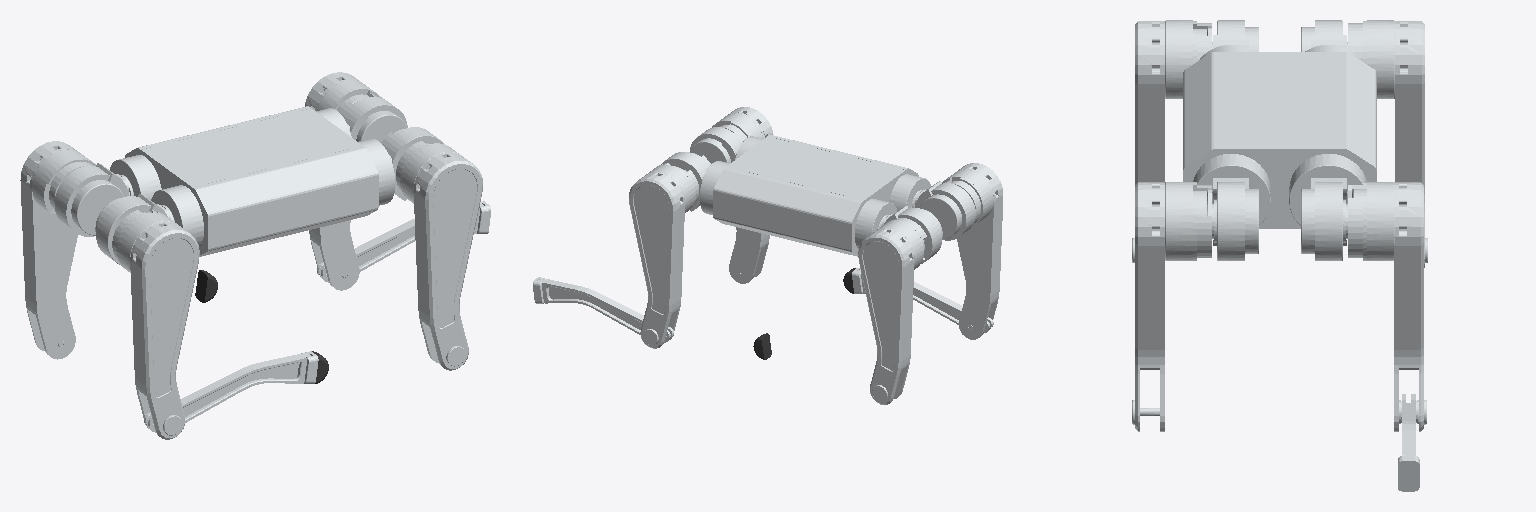
The robot description file, URDF, robot "sdog2":
<?xml version="1.0" encoding="utf-8"?>
<!-- This URDF was automatically created by SolidWorks to URDF Exporter! Originally created by Stephen Brawner (brawner@gmail.com) 
     Commit Version: 1.5.1-0-g916b5db  Build Version: 1.5.7152.31018
     For more information, please see http://wiki.ros.org/sw_urdf_exporter -->
<robot
  name="sdog2">
  <link
    name="base_link">
    <inertial>
      <origin
        xyz="0.014478 0.0001355 -0.0027127"
        rpy="0 0 0" />
      <mass
        value="4.2719" />
      <inertia
        ixx="0.01292039"
        ixy="-8.164E-05"
        ixz="-0.00033706"
        iyy="0.03772913"
        iyz="-1.848E-05"
        izz="0.04632371" />
    </inertial>
    <visual>
      <origin
        xyz="0 0 0"
        rpy="0 0 0" />
      <geometry>
        <mesh
          filename="../meshes/base_link.STL" />
      </geometry>
      <material
        name="">
        <color
          rgba="0.89804 0.91765 0.92941 1" />
      </material>
    </visual>
    <collision>
      <origin
        xyz="0 0 0"
        rpy="0 0 0" />
      <geometry>
        <mesh
          filename="../meshes/base_link.STL" />
      </geometry>
    </collision>
  </link>
  <link
    name="RL_hip">
    <inertial>
      <origin
        xyz="-0.039981 -0.0022222 -1.8726E-09"
        rpy="0 0 0" />
      <mass
        value="0.45019" />
      <inertia
        ixx="0.00024248"
        ixy="4.402E-05"
        ixz="0"
        iyy="0.0011037"
        iyz="-5.0256E-12"
        izz="0.00099715" />
    </inertial>
    <visual>
      <origin
        xyz="0 0 0"
        rpy="0 0 0" />
      <geometry>
        <mesh
          filename="../meshes/RL_hip.STL" />
      </geometry>
      <material
        name="">
        <color
          rgba="0.89804 0.91765 0.92941 1" />
      </material>
    </visual>
    <collision>
      <origin
        xyz="0 0 0"
        rpy="0 0 0" />
      <geometry>
        <mesh
          filename="../meshes/RL_hip.STL" />
      </geometry>
    </collision>
  </link>
  <joint
    name="RL_hip_joint"
    type="revolute">
    <origin
      xyz="-0.147 0.0485 0"
      rpy="0 0 0" />
    <parent
      link="base_link" />
    <child
      link="RL_hip" />
    <axis
      xyz="1 0 0" />
    <limit
      lower="-1.4"
      upper="1.4"
      effort="17"
      velocity="42.935" />
  </joint>
  <link
    name="RL_thigh">
    <inertial>
      <origin
        xyz="-0.0024221 0.045951 -0.038919"
        rpy="0 0 0" />
      <mass
        value="0.95949" />
      <inertia
        ixx="0.0081819"
        ixy="-0.00015667"
        ixz="0.00028798"
        iyy="0.0060991"
        iyz="-0.0023776"
        izz="0.0029149" />
    </inertial>
    <visual>
      <origin
        xyz="0 0 0"
        rpy="0 0 0" />
      <geometry>
        <mesh
          filename="../meshes/RL_thigh.STL" />
      </geometry>
      <material
        name="">
        <color
          rgba="0.89804 0.91765 0.92941 1" />
      </material>
    </visual>
    <collision>
      <origin
        xyz="0 0 0"
        rpy="0 0 0" />
      <geometry>
        <mesh
          filename="../meshes/RL_thigh.STL" />
      </geometry>
    </collision>
  </link>
  <joint
    name="RL_thigh_joint"
    type="revolute">
    <origin
      xyz="-0.044 0.018 0"
      rpy="0 0 0" />
    <parent
      link="RL_hip" />
    <child
      link="RL_thigh" />
    <axis
      xyz="0 1 0" />
    <limit
      lower="-1.5"
      upper="2.8"
      effort="17"
      velocity="42.935" />
  </joint>
  <link
    name="RL_calf">
    <inertial>
      <origin
        xyz="0.0067777 1.9855E-06 -0.10037"
        rpy="0 0 0" />
      <mass
        value="0.14071" />
      <inertia
        ixx="0.0021875"
        ixy="0"
        ixz="-0.00010679"
        iyy="0.0022056"
        iyz="-5E-08"
        izz="2.369E-05" />
    </inertial>
    <visual>
      <origin
        xyz="0 0 0"
        rpy="0 0 0" />
      <geometry>
        <mesh
          filename="../meshes/RL_calf.STL" />
      </geometry>
      <material
        name="">
        <color
          rgba="0.89804 0.91765 0.92941 1" />
      </material>
    </visual>
    <collision>
      <origin
        xyz="0 0 0"
        rpy="0 0 0" />
      <geometry>
        <mesh
          filename="../meshes/RL_calf.STL" />
      </geometry>
    </collision>
  </link>
  <joint
    name="RL_calf_joint"
    type="revolute">
    <origin
      xyz="0 0.063 -0.21"
      rpy="0 0 0" />
    <parent
      link="RL_thigh" />
    <child
      link="RL_calf" />
    <axis
      xyz="0 1 0" />
    <limit
      lower="-2.627"
      upper="-0.73"
      effort="17"
      velocity="42.935" />
  </joint>
  <link
    name="RL_foot">
    <inertial>
      <origin
        xyz="-0.0018355 -2.7756E-17 -0.0072422"
        rpy="0 0 0" />
      <mass
        value="0.013247" />
      <inertia
        ixx="1.52E-06"
        ixy="0"
        ixz="0"
        iyy="2.06E-06"
        iyz="0"
        izz="1.52E-06" />
    </inertial>
    <visual>
      <origin
        xyz="0 0 0"
        rpy="0 0 0" />
      <geometry>
        <mesh
          filename="../meshes/RL_foot.STL" />
      </geometry>
      <material
        name="">
        <color
          rgba="0.29804 0.29804 0.29804 1" />
      </material>
    </visual>
    <collision>
      <origin
        xyz="0 0 0"
        rpy="0 0 0" />
      <geometry>
        <mesh
          filename="../meshes/RL_foot.STL" />
      </geometry>
    </collision>
  </link>
  <joint
    name="RL_foot_joint"
    type="fixed"
    dont_collapse="true">
    <origin
      xyz="0 0 -0.199007934855877"
      rpy="0 0 0" />
    <parent
      link="RL_calf" />
    <child
      link="RL_foot" />
    <axis
      xyz="0 0 0" />
  </joint>
  <link
    name="RR_hip">
    <inertial>
      <origin
        xyz="-0.039981 0.0022222 1.8726E-09"
        rpy="0 0 0" />
      <mass
        value="0.45019" />
      <inertia
        ixx="0.00024248"
        ixy="-4.402E-05"
        ixz="0"
        iyy="0.0011037"
        iyz="0"
        izz="0.00099715" />
    </inertial>
    <visual>
      <origin
        xyz="0 0 0"
        rpy="0 0 0" />
      <geometry>
        <mesh
          filename="../meshes/RR_hip.STL" />
      </geometry>
      <material
        name="">
        <color
          rgba="0.89804 0.91765 0.92941 1" />
      </material>
    </visual>
    <collision>
      <origin
        xyz="0 0 0"
        rpy="0 0 0" />
      <geometry>
        <mesh
          filename="../meshes/RR_hip.STL" />
      </geometry>
    </collision>
  </link>
  <joint
    name="RR_hip_joint"
    type="revolute">
    <origin
      xyz="-0.147 -0.0485 0"
      rpy="0 0 0" />
    <parent
      link="base_link" />
    <child
      link="RR_hip" />
    <axis
      xyz="1 0 0" />
    <limit
      lower="-1.4"
      upper="1.4"
      effort="17"
      velocity="42.935" />
  </joint>
  <link
    name="RR_thigh">
    <inertial>
      <origin
        xyz="-0.0026191 -0.046317 -0.039171"
        rpy="0 0 0" />
      <mass
        value="0.97456" />
      <inertia
        ixx="0.0083492"
        ixy="0.00016405"
        ixz="0.00029587"
        iyy="0.0062077"
        iyz="0.0024412"
        izz="0.0030069" />
    </inertial>
    <visual>
      <origin
        xyz="0 0 0"
        rpy="0 0 0" />
      <geometry>
        <mesh
          filename="../meshes/RR_thigh.STL" />
      </geometry>
      <material
        name="">
        <color
          rgba="0.89804 0.91765 0.92941 1" />
      </material>
    </visual>
    <collision>
      <origin
        xyz="0 0 0"
        rpy="0 0 0" />
      <geometry>
        <mesh
          filename="../meshes/RR_thigh.STL" />
      </geometry>
    </collision>
  </link>
  <joint
    name="RR_thigh_joint"
    type="revolute">
    <origin
      xyz="-0.044 -0.0180000000000001 0"
      rpy="0 0 0" />
    <parent
      link="RR_hip" />
    <child
      link="RR_thigh" />
    <axis
      xyz="0 1 0" />
    <limit
      lower="-1.5"
      upper="2.8"
      effort="17"
      velocity="42.935" />
  </joint>
  <link
    name="RR_calf">
    <inertial>
      <origin
        xyz="0.0067777 1.9855E-06 -0.10037"
        rpy="0 0 0" />
      <mass
        value="0.14071" />
      <inertia
        ixx="0.0021875"
        ixy="0"
        ixz="-0.00010679"
        iyy="0.0022056"
        iyz="-5E-08"
        izz="0" />
    </inertial>
    <visual>
      <origin
        xyz="0 0 0"
        rpy="0 0 0" />
      <geometry>
        <mesh
          filename="../meshes/RR_calf.STL" />
      </geometry>
      <material
        name="">
        <color
          rgba="0.89804 0.91765 0.92941 1" />
      </material>
    </visual>
    <collision>
      <origin
        xyz="0 0 0"
        rpy="0 0 0" />
      <geometry>
        <mesh
          filename="../meshes/RR_calf.STL" />
      </geometry>
    </collision>
  </link>
  <joint
    name="RR_calf_joint"
    type="revolute">
    <origin
      xyz="0 -0.0630000000000226 -0.210000000000001"
      rpy="0 0 0" />
    <parent
      link="RR_thigh" />
    <child
      link="RR_calf" />
    <axis
      xyz="0 1 0" />
    <limit
      lower="-2.627"
      upper="-0.73"
      effort="17"
      velocity="42.935" />
  </joint>
  <link
    name="RR_foot">
    <inertial>
      <origin
        xyz="-0.0018355 -2.7756E-17 -0.0072422"
        rpy="0 0 0" />
      <mass
        value="0.013247" />
      <inertia
        ixx="1.52E-06"
        ixy="0"
        ixz="0"
        iyy="2.06E-06"
        iyz="0"
        izz="1.52E-06" />
    </inertial>
    <visual>
      <origin
        xyz="0 0 0"
        rpy="0 0 0" />
      <geometry>
        <mesh
          filename="../meshes/RR_foot.STL" />
      </geometry>
      <material
        name="">
        <color
          rgba="0.29804 0.29804 0.29804 1" />
      </material>
    </visual>
    <collision>
      <origin
        xyz="0 0 0"
        rpy="0 0 0" />
      <geometry>
        <mesh
          filename="../meshes/RR_foot.STL" />
      </geometry>
    </collision>
  </link>
  <joint
    name="RR_foot_joint"
    type="fixed"
    dont_collapse="true">
    <origin
      xyz="0 0 -0.199007934855878"
      rpy="0 0 0" />
    <parent
      link="RR_calf" />
    <child
      link="RR_foot" />
    <axis
      xyz="0 0 0" />
  </joint>
  <link
    name="FR_hip">
    <inertial>
      <origin
        xyz="0.039981 0.0022222 -1.8726E-09"
        rpy="0 0 0" />
      <mass
        value="0.45019" />
      <inertia
        ixx="0.00024248"
        ixy="4.402E-05"
        ixz="0"
        iyy="0.0011037"
        iyz="0"
        izz="0.00099715" />
    </inertial>
    <visual>
      <origin
        xyz="0 0 0"
        rpy="0 0 0" />
      <geometry>
        <mesh
          filename="../meshes/FR_hip.STL" />
      </geometry>
      <material
        name="">
        <color
          rgba="0.89804 0.91765 0.92941 1" />
      </material>
    </visual>
    <collision>
      <origin
        xyz="0 0 0"
        rpy="0 0 0" />
      <geometry>
        <mesh
          filename="../meshes/FR_hip.STL" />
      </geometry>
    </collision>
  </link>
  <joint
    name="FR_hip_joint"
    type="revolute">
    <origin
      xyz="0.147 -0.0485 0"
      rpy="0 0 0" />
    <parent
      link="base_link" />
    <child
      link="FR_hip" />
    <axis
      xyz="1 0 0" />
    <limit
      lower="-1.4"
      upper="1.4"
      effort="17"
      velocity="42.935" />
  </joint>
  <link
    name="FR_thigh">
    <inertial>
      <origin
        xyz="-0.0027343 -0.046317 -0.039501"
        rpy="0 0 0" />
      <mass
        value="0.97456" />
      <inertia
        ixx="0.0083518"
        ixy="0.00016523"
        ixz="0.00029267"
        iyy="0.0062077"
        iyz="0.0024446"
        izz="0.0030043" />
    </inertial>
    <visual>
      <origin
        xyz="0 0 0"
        rpy="0 0 0" />
      <geometry>
        <mesh
          filename="../meshes/FR_thigh.STL" />
      </geometry>
      <material
        name="">
        <color
          rgba="0.89804 0.91765 0.92941 1" />
      </material>
    </visual>
    <collision>
      <origin
        xyz="0 0 0"
        rpy="0 0 0" />
      <geometry>
        <mesh
          filename="../meshes/FR_thigh.STL" />
      </geometry>
    </collision>
  </link>
  <joint
    name="FR_thigh_joint"
    type="revolute">
    <origin
      xyz="0.0440000000000002 -0.0179999999999994 0"
      rpy="0 0 0" />
    <parent
      link="FR_hip" />
    <child
      link="FR_thigh" />
    <axis
      xyz="0 1 0" />
    <limit
      lower="-1.5"
      upper="2.8"
      effort="17"
      velocity="42.935" />
  </joint>
  <link
    name="FR_calf">
    <inertial>
      <origin
        xyz="0.0067777 1.9855E-06 -0.10037"
        rpy="0 0 0" />
      <mass
        value="0.14071" />
      <inertia
        ixx="0.0021875"
        ixy="0"
        ixz="-0.00010679"
        iyy="0.0022056"
        iyz="-5E-08"
        izz="2.369E-05" />
    </inertial>
    <visual>
      <origin
        xyz="0 0 0"
        rpy="0 0 0" />
      <geometry>
        <mesh
          filename="../meshes/FR_calf.STL" />
      </geometry>
      <material
        name="">
        <color
          rgba="0.89804 0.91765 0.92941 1" />
      </material>
    </visual>
    <collision>
      <origin
        xyz="0 0 0"
        rpy="0 0 0" />
      <geometry>
        <mesh
          filename="../meshes/FR_calf.STL" />
      </geometry>
    </collision>
  </link>
  <joint
    name="FR_calf_joint"
    type="revolute">
    <origin
      xyz="0 -0.0630000000000001 -0.209999999999999"
      rpy="0 0 0" />
    <parent
      link="FR_thigh" />
    <child
      link="FR_calf" />
    <axis
      xyz="0 1 0" />
    <limit
      lower="-2.627"
      upper="-0.73"
      effort="17"
      velocity="42.935" />
  </joint>
  <link
    name="FR_foot">
    <inertial>
      <origin
        xyz="-0.0018355 -2.7756E-17 -0.0072422"
        rpy="0 0 0" />
      <mass
        value="0.013247" />
      <inertia
        ixx="1.52E-06"
        ixy="0"
        ixz="0"
        iyy="2.06E-06"
        iyz="0"
        izz="1.52E-06" />
    </inertial>
    <visual>
      <origin
        xyz="0 0 0"
        rpy="0 0 0" />
      <geometry>
        <mesh
          filename="../meshes/FR_foot.STL" />
      </geometry>
      <material
        name="">
        <color
          rgba="0.29804 0.29804 0.29804 1" />
      </material>
    </visual>
    <collision>
      <origin
        xyz="0 0 0"
        rpy="0 0 0" />
      <geometry>
        <mesh
          filename="../meshes/FR_foot.STL" />
      </geometry>
    </collision>
  </link>
  <joint
    name="FR_foot_joint"
    type="fixed"
    dont_collapse="true">
    <origin
      xyz="0 0 -0.199007934855877"
      rpy="0 0 0" />
    <parent
      link="FR_calf" />
    <child
      link="FR_foot" />
    <axis
      xyz="0 0 0" />
  </joint>
  <link
    name="FL_hip">
    <inertial>
      <origin
        xyz="0.039981 -0.0022222 -1.8726E-09"
        rpy="0 0 0" />
      <mass
        value="0.45019" />
      <inertia
        ixx="0.00024248"
        ixy="-4.402E-05"
        ixz="0"
        iyy="0.0011037"
        iyz="0"
        izz="0.00099715" />
    </inertial>
    <visual>
      <origin
        xyz="0 0 0"
        rpy="0 0 0" />
      <geometry>
        <mesh
          filename="../meshes/FL_hip.STL" />
      </geometry>
      <material
        name="">
        <color
          rgba="0.89804 0.91765 0.92941 1" />
      </material>
    </visual>
    <collision>
      <origin
        xyz="0 0 0"
        rpy="0 0 0" />
      <geometry>
        <mesh
          filename="../meshes/FL_hip.STL" />
      </geometry>
    </collision>
  </link>
  <joint
    name="FL_hip_joint"
    type="revolute">
    <origin
      xyz="0.147 0.0485000000000039 0"
      rpy="0 0 0" />
    <parent
      link="base_link" />
    <child
      link="FL_hip" />
    <axis
      xyz="1 0 0" />
    <limit
      lower="-1.4"
      upper="1.4"
      effort="17"
      velocity="42.935" />
  </joint>
  <link
    name="FL_thigh">
    <inertial>
      <origin
        xyz="-0.0025853 0.045437 -0.039114"
        rpy="0 0 0" />
      <mass
        value="0.95949" />
      <inertia
        ixx="0.0081057"
        ixy="-0.00015582"
        ixz="0.00029042"
        iyy="0.0060991"
        iyz="-0.0023423"
        izz="0.0028664" />
    </inertial>
    <visual>
      <origin
        xyz="0 0 0"
        rpy="0 0 0" />
      <geometry>
        <mesh
          filename="../meshes/FL_thigh.STL" />
      </geometry>
      <material
        name="">
        <color
          rgba="0.89804 0.91765 0.92941 1" />
      </material>
    </visual>
    <collision>
      <origin
        xyz="0 0 0"
        rpy="0 0 0" />
      <geometry>
        <mesh
          filename="../meshes/FL_thigh.STL" />
      </geometry>
    </collision>
  </link>
  <joint
    name="FL_thigh_joint"
    type="revolute">
    <origin
      xyz="0.0439999999999999 0.0179999999999999 0"
      rpy="0 0 0" />
    <parent
      link="FL_hip" />
    <child
      link="FL_thigh" />
    <axis
      xyz="0 1 0" />
    <limit
      lower="-1.5"
      upper="2.8"
      effort="17"
      velocity="42.935" />
  </joint>
  <link
    name="FL_calf">
    <inertial>
      <origin
        xyz="0.0067777 1.9855E-06 -0.10037"
        rpy="0 0 0" />
      <mass
        value="0.14071" />
      <inertia
        ixx="0.0021875"
        ixy="0"
        ixz="-0.00010679"
        iyy="0.0022056"
        iyz="-5E-08"
        izz="2.369E-05" />
    </inertial>
    <visual>
      <origin
        xyz="0 0 0"
        rpy="0 0 0" />
      <geometry>
        <mesh
          filename="../meshes/FL_calf.STL" />
      </geometry>
      <material
        name="">
        <color
          rgba="0.89804 0.91765 0.92941 1" />
      </material>
    </visual>
    <collision>
      <origin
        xyz="0 0 0"
        rpy="0 0 0" />
      <geometry>
        <mesh
          filename="../meshes/FL_calf.STL" />
      </geometry>
    </collision>
  </link>
  <joint
    name="FL_calf_joint"
    type="revolute">
    <origin
      xyz="0 0.062000000000001 -0.21"
      rpy="0 0 0" />
    <parent
      link="FL_thigh" />
    <child
      link="FL_calf" />
    <axis
      xyz="0 1 0" />
    <limit
      lower="-2.627"
      upper="-0.73"
      effort="17"
      velocity="42.935" />
  </joint>
  <link
    name="FL_foot">
    <inertial>
      <origin
        xyz="-0.0018355 0 -0.0072422"
        rpy="0 0 0" />
      <mass
        value="0.013247" />
      <inertia
        ixx="1.52E-06"
        ixy="0"
        ixz="0"
        iyy="2.06E-06"
        iyz="0"
        izz="1.52E-06" />
    </inertial>
    <visual>
      <origin
        xyz="0 0 0"
        rpy="0 0 0" />
      <geometry>
        <mesh
          filename="../meshes/FL_foot.STL" />
      </geometry>
      <material
        name="">
        <color
          rgba="0.29804 0.29804 0.29804 1" />
      </material>
    </visual>
    <collision>
      <origin
        xyz="0 0 0"
        rpy="0 0 0" />
      <geometry>
        <mesh
          filename="../meshes/FL_foot.STL" />
      </geometry>
    </collision>
  </link>
  <joint
    name="FL_foot_joint"
    type="fixed"
    dont_collapse="true">
    <origin
      xyz="0 0 -0.199007934855877"
      rpy="0 0 0" />
    <parent
      link="FL_calf" />
    <child
      link="FL_foot" />
    <axis
      xyz="0 0 0" />
  </joint>
  <!-- <link
    name="imu">
    <inertial>
      <origin
        xyz="0 0 0"
        rpy="0 0 0" />
      <mass
        value="0" />
      <inertia
        ixx="0"
        ixy="0"
        ixz="0"
        iyy="0"
        iyz="0"
        izz="0" />
    </inertial>
  </link>
  <joint
    name="imu_joint"
    type="fixed" dont_collapse="true">
    <origin
      xyz="-0.071 0.00525 -0.024"
      rpy="0 0 0" />
    <parent
      link="base_link" />
    <child
      link="imu" />
    <axis
      xyz="0 0 0" />
  </joint> -->
</robot>

--- Render facts (derived) ---
Views: 3 orthographic renders of the robot side by side, from view 1: azimuth 30°, elevation 25°; view 2: azimuth 150°, elevation 25°; view 3: azimuth 270°, elevation 25°.
Model sdog2 with 17 links and 16 joints (12 revolute, 4 fixed), rooted at base_link, posed joints at zero except 4 at the middle of their limits (RL_calf_joint = -1.68, RR_calf_joint = -1.68, FR_calf_joint = -1.68, FL_calf_joint = -1.68).
Links seen in each view (by area): view 1: base_link, FR_thigh, RR_thigh, RL_thigh, FL_thigh, RR_calf, RL_hip, FL_hip, FL_calf, RR_hip, FR_hip, RL_foot; view 2: base_link, RL_thigh, FL_thigh, RR_thigh, FR_thigh, FL_calf, RR_hip, FR_hip, RR_calf, RL_hip, FL_hip; view 3: base_link, FR_thigh, FL_thigh, RL_thigh, RR_thigh, FR_hip, FL_hip, FL_calf, RL_hip, RR_hip.
Boxes of the visible links, <box> form: base_link: <box>110,106,394,256</box>; FR_thigh: <box>396,141,482,370</box>; RR_thigh: <box>112,209,199,439</box>; RL_thigh: <box>20,141,95,359</box>; FL_thigh: <box>305,72,381,290</box>; RR_calf: <box>144,351,318,429</box>; RL_hip: <box>54,163,129,236</box>; FL_hip: <box>340,97,407,142</box>; FL_calf: <box>317,201,490,279</box>; RR_hip: <box>95,193,170,265</box>; FR_hip: <box>381,127,443,200</box>; RL_foot: <box>195,270,217,302</box>; base_link: <box>700,135,930,256</box>; RL_thigh: <box>858,218,926,404</box>; FL_thigh: <box>629,163,698,348</box>; RR_thigh: <box>942,163,1002,339</box>; FR_thigh: <box>712,107,772,283</box>; FL_calf: <box>533,277,673,340</box>; RR_hip: <box>915,181,975,240</box>; FR_hip: <box>690,127,744,163</box>; RR_calf: <box>852,268,993,330</box>; RL_hip: <box>882,205,942,263</box>; FL_hip: <box>661,152,710,211</box>; base_link: <box>1183,45,1376,228</box>; FR_thigh: <box>1132,182,1213,431</box>; FL_thigh: <box>1346,182,1426,431</box>; RL_thigh: <box>1347,20,1427,267</box>; RR_thigh: <box>1132,20,1212,262</box>; FR_hip: <box>1213,178,1258,260</box>; FL_hip: <box>1301,178,1346,260</box>; FL_calf: <box>1398,394,1419,491</box>; RL_hip: <box>1301,20,1346,51</box>; RR_hip: <box>1213,20,1258,51</box>.
Bounding box of the posed robot: 0.6216 × 0.295 × 0.2739 m (x, y, z).
Meshes: 17 distinct files referenced, 13 mesh visuals loaded (13 binary STL); not drawn: 4 (reference not matched to a file when rendering).
